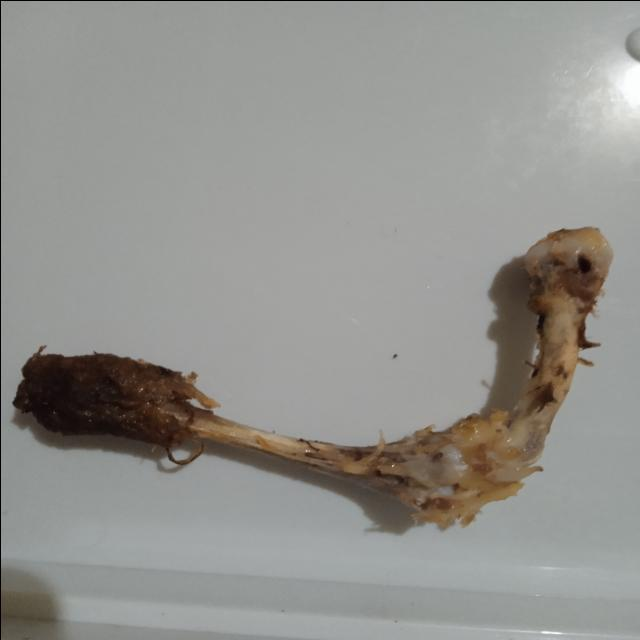bone: (2, 213, 624, 536)
